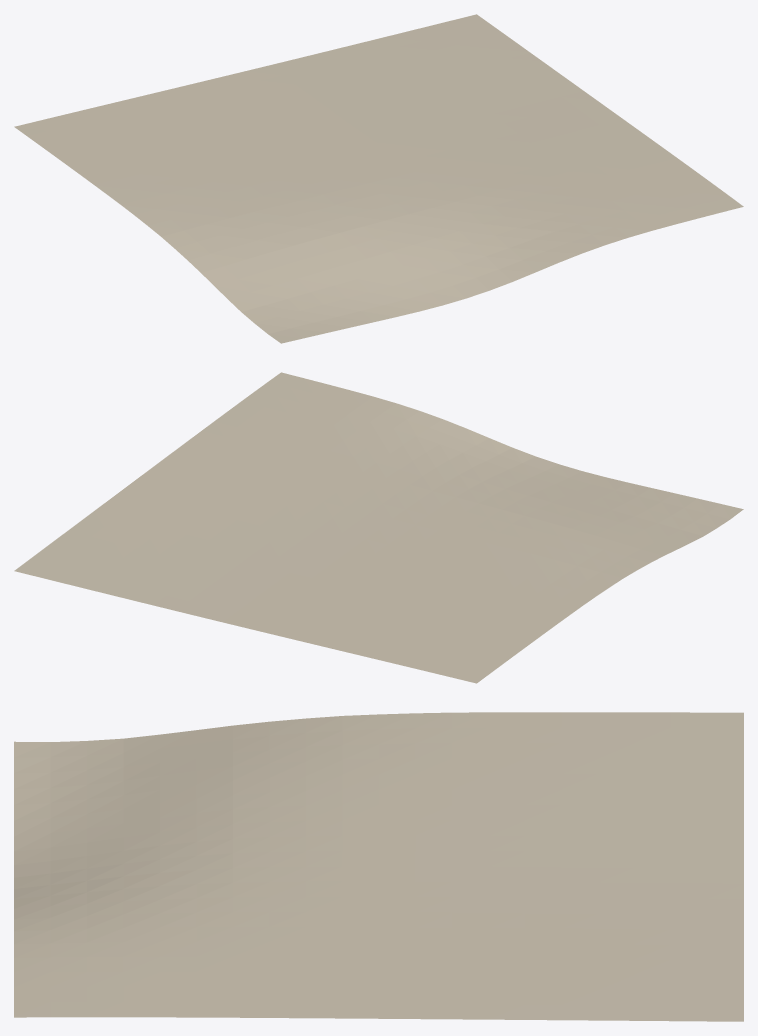
The model's file is bolak_-36_-8.glb.
The picture shows the model from 3 angles, top to bottom: view 1: azimuth 30°, elevation 25°; view 2: azimuth 150°, elevation 25°; view 3: azimuth 270°, elevation 25°; orthographic projection. The views are drawn at different scales.
Visible parts, largest first — view 1: Yer_Tuproq-col; view 2: Yer_Tuproq-col; view 3: Yer_Tuproq-col.
Boxes of the visible parts, bbox=[...] form: Yer_Tuproq-col: bbox=[14, 14, 743, 343]; Yer_Tuproq-col: bbox=[14, 372, 743, 683]; Yer_Tuproq-col: bbox=[14, 712, 743, 1021].
Bounding box in the file's own units: 400 × 21.34 × 400.
